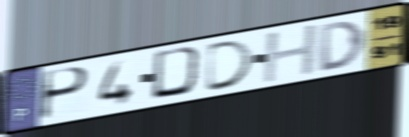4: (96, 59, 136, 106)
D: (149, 44, 208, 102), (203, 37, 258, 95), (318, 18, 368, 74)
H: (260, 21, 321, 86)
P: (37, 65, 92, 123)
